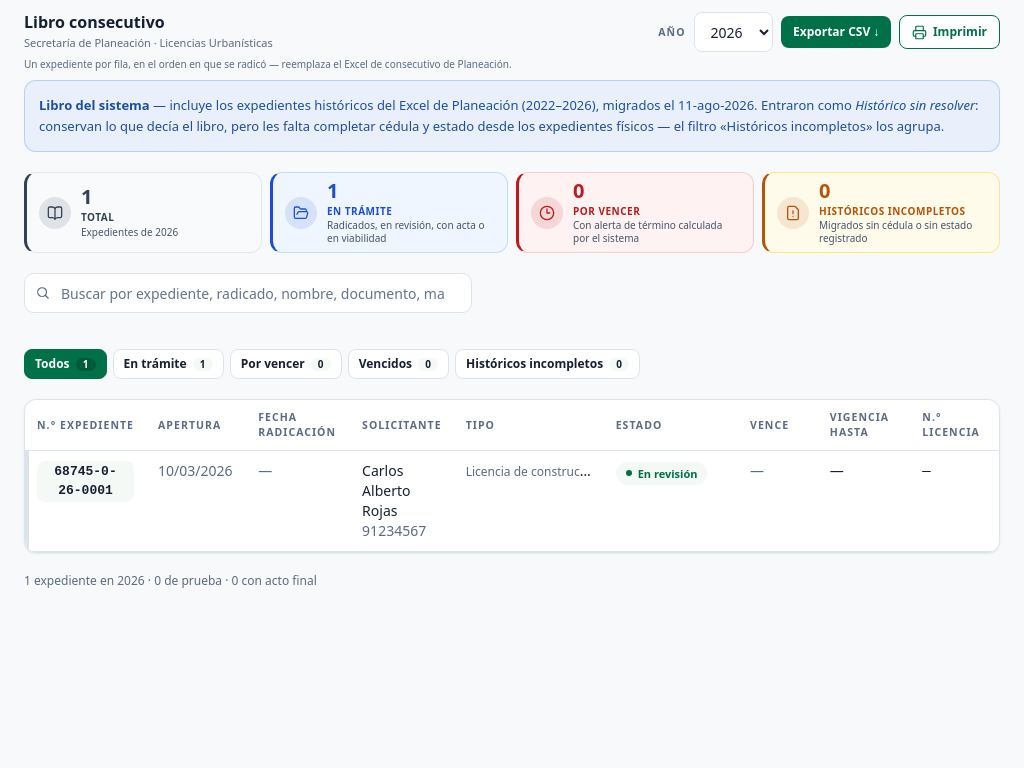
Scenario: LibroConsecutivoClient › selector de año filtra: cambiar de año oculta expedientes de otros años y muestra el estado vacío honesto
Select "2026" in the dropdown named "Año del libro consecutivo" at coordinates (733, 32), box [694,12,773,52]
Expected: the text "68745-0-26-0001" is shown, [37,461,134,502]
Expected: the text "68745-0-25-0050" is not shown
Select "2025" in the dropdown named "Año del libro consecutivo" at coordinates (733, 32), box [694,12,773,52]
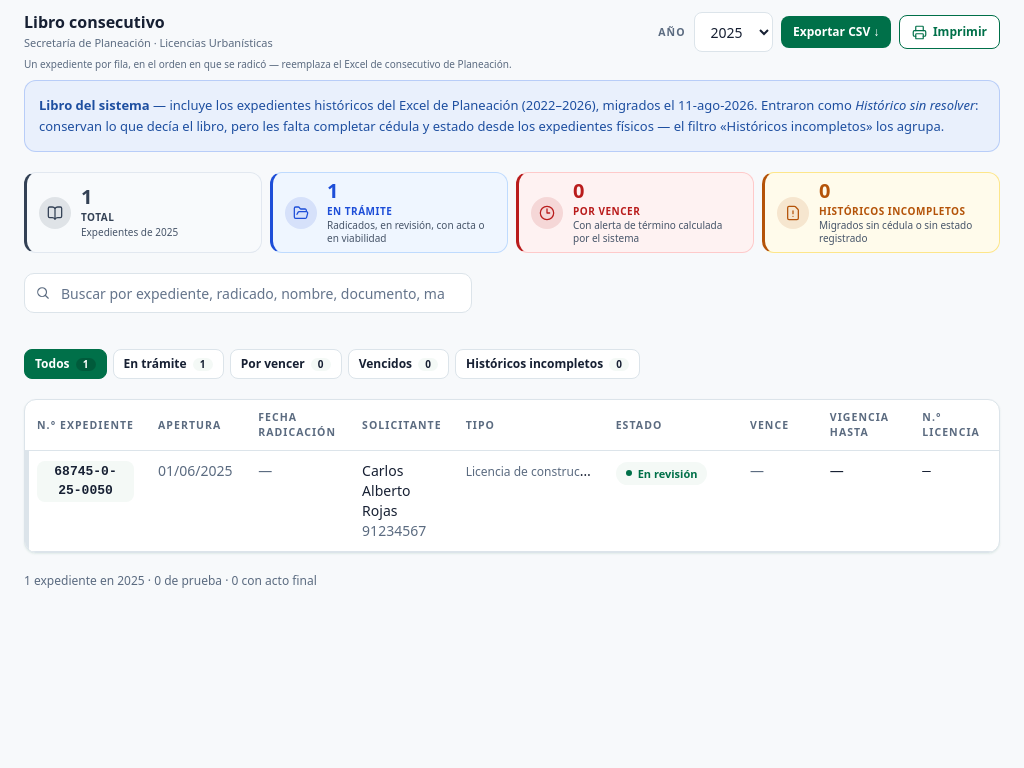
Now the text "68745-0-25-0050" is shown, box [37,461,134,502]
Now the button "68745-0-26-0001" is gone
